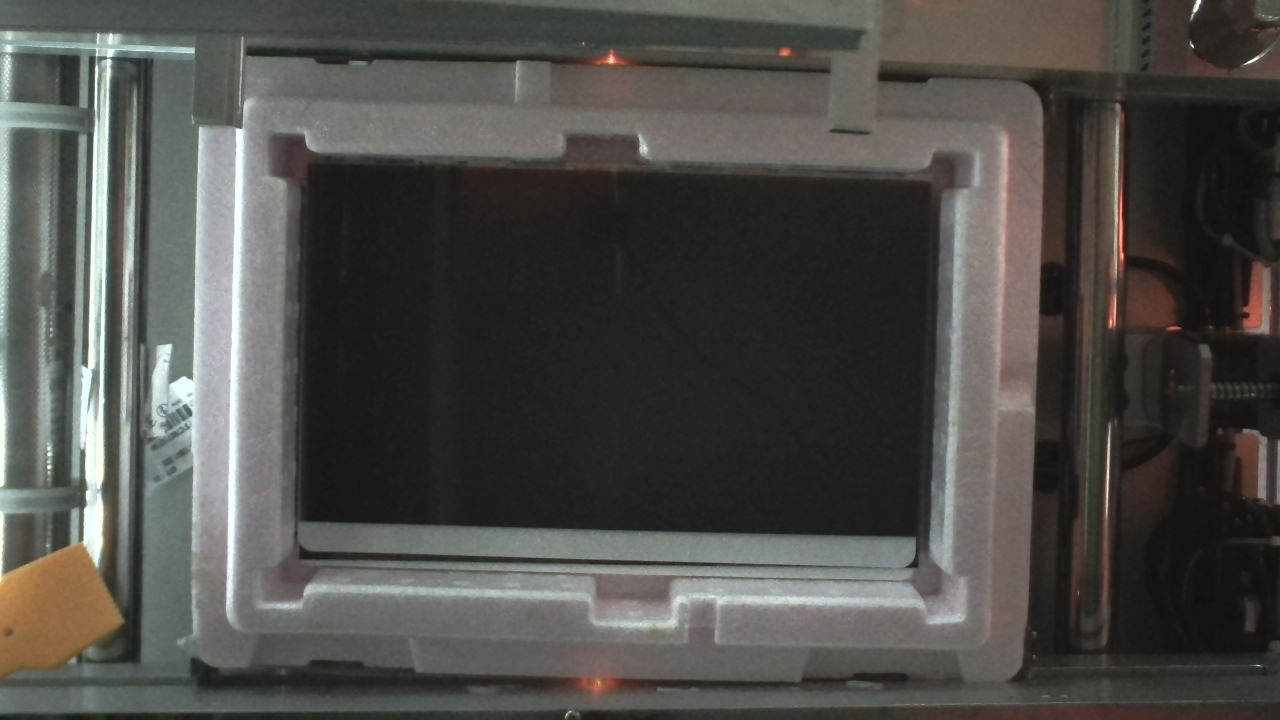OK: (185, 56, 1050, 691)
